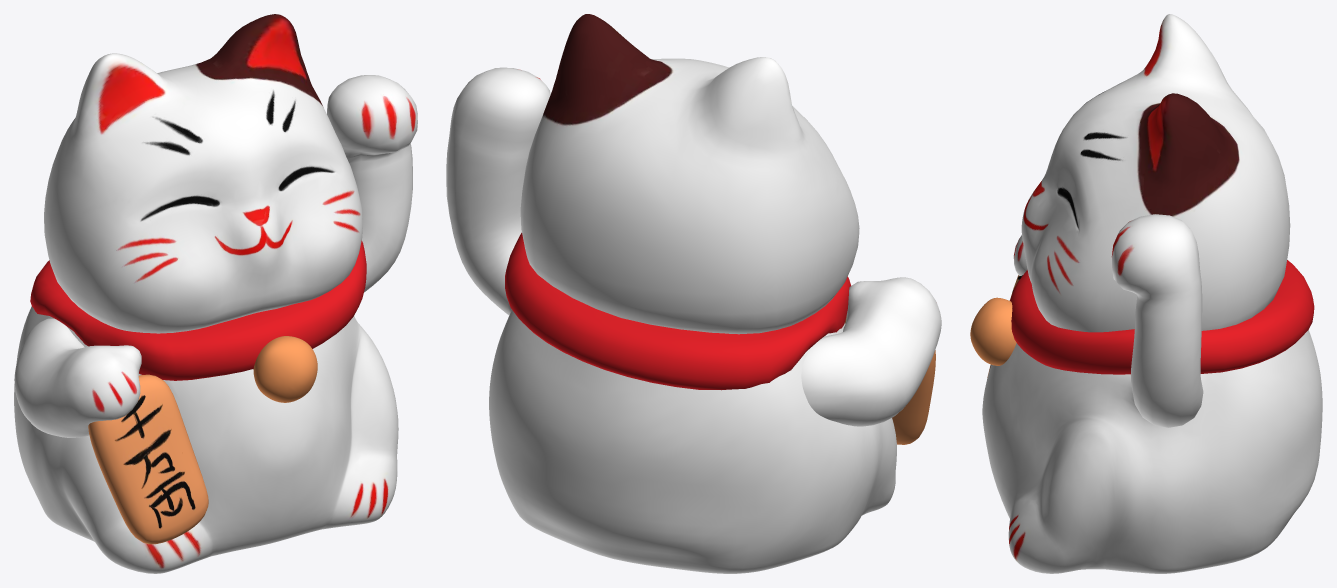
File: lucky-cat.glb
3 renders of one model, left to right at view 1: azimuth 30°, elevation 25°; view 2: azimuth 150°, elevation 25°; view 3: azimuth 270°, elevation 25°, orthographic. The views are drawn at different scales.
Parts seen in each view (by area): view 1: 1-Head, 2-Body, 3-Scalf, 7-Coin, 4-RightArm, 5-LeftArm, 6-Bell; view 2: 1-Head, 2-Body, 3-Scalf, 4-RightArm, 5-LeftArm, 7-Coin; view 3: 2-Body, 1-Head, 4-RightArm, 3-Scalf, 6-Bell.
Part boxes in pixels (box(x1,y1,x2,y2)): 1-Head: box(44, 14, 362, 333); 2-Body: box(14, 306, 398, 573); 3-Scalf: box(30, 240, 366, 380); 7-Coin: box(88, 374, 208, 544); 4-RightArm: box(327, 75, 417, 292); 5-LeftArm: box(14, 318, 141, 437); 6-Bell: box(253, 336, 317, 402); 1-Head: box(520, 14, 859, 334); 2-Body: box(489, 310, 896, 573); 3-Scalf: box(505, 232, 851, 390); 4-RightArm: box(446, 67, 550, 315); 5-LeftArm: box(801, 277, 941, 426); 7-Coin: box(845, 316, 935, 444); 2-Body: box(982, 330, 1322, 573); 1-Head: box(1021, 14, 1290, 332); 4-RightArm: box(1111, 214, 1203, 427); 3-Scalf: box(1010, 260, 1314, 374); 6-Bell: box(970, 297, 1016, 365).
Bounding box in the file's own units: 2.81 × 3.06 × 2.11.
7 materials, 5 textured.
